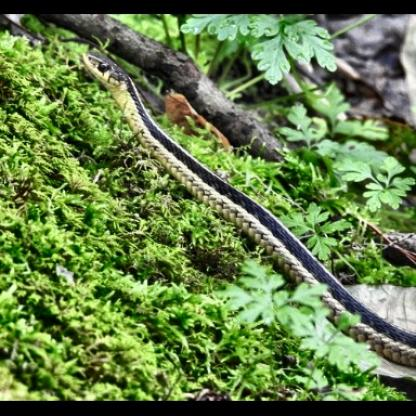Snake: (0, 32, 416, 392)
